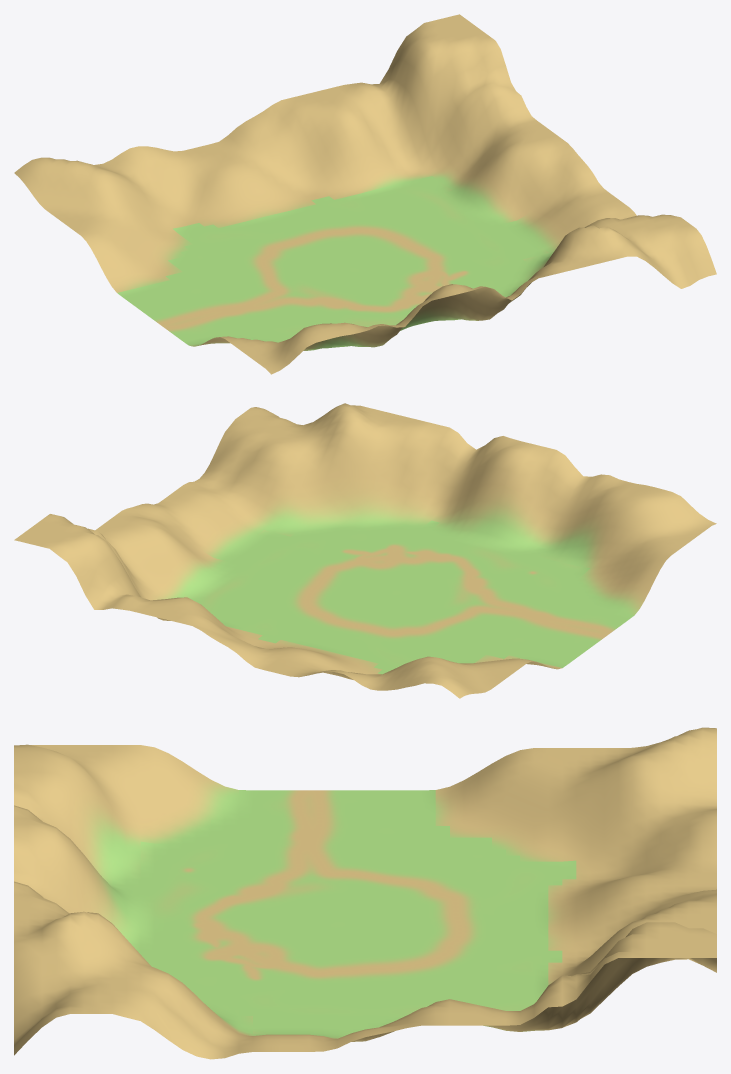
File: town.FBX
3 views of the same model, one above another, from view 1: azimuth 30°, elevation 25°; view 2: azimuth 150°, elevation 25°; view 3: azimuth 270°, elevation 25° (orthographic). The views are drawn at different scales.
Parts seen in each view (by area): view 1: Plane001; view 2: Plane001; view 3: Plane001.
Part boxes in pixels (bbox=[...]): Plane001: bbox=[14, 14, 716, 374]; Plane001: bbox=[14, 403, 716, 698]; Plane001: bbox=[14, 727, 716, 1059].
Bounding box in the file's own units: 5.01 × 1.02 × 5.01.
1 material, 1 textured.
